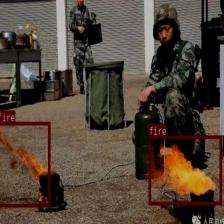fire: (148, 135, 222, 205), (0, 122, 50, 206)
